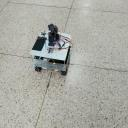cart: (30, 31, 72, 76)
